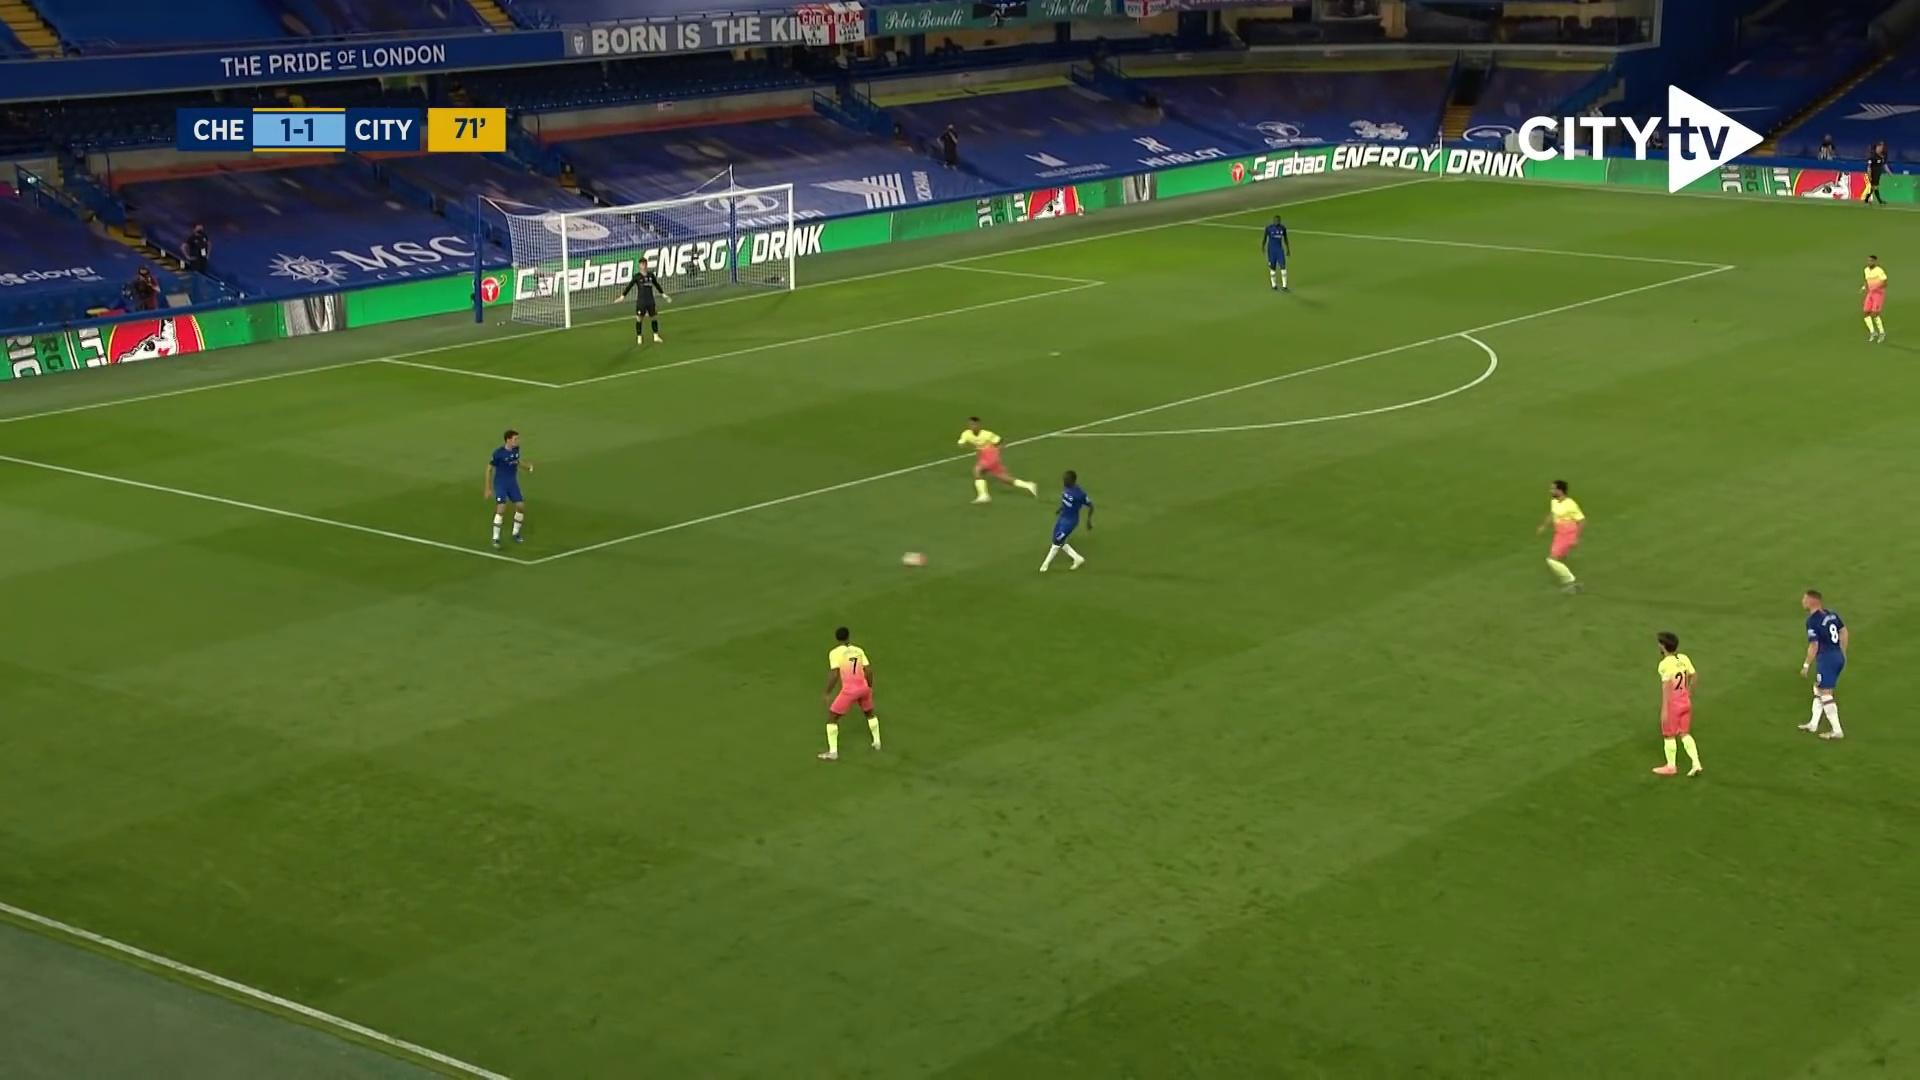ball: (898, 549, 928, 572)
goalkeeper: (614, 255, 675, 349)
player: (813, 623, 887, 763), (1796, 586, 1857, 745), (1651, 630, 1711, 784), (950, 410, 1041, 506), (1531, 478, 1588, 601), (1039, 469, 1099, 581), (482, 425, 534, 551), (1858, 254, 1894, 348), (1259, 213, 1298, 298)
